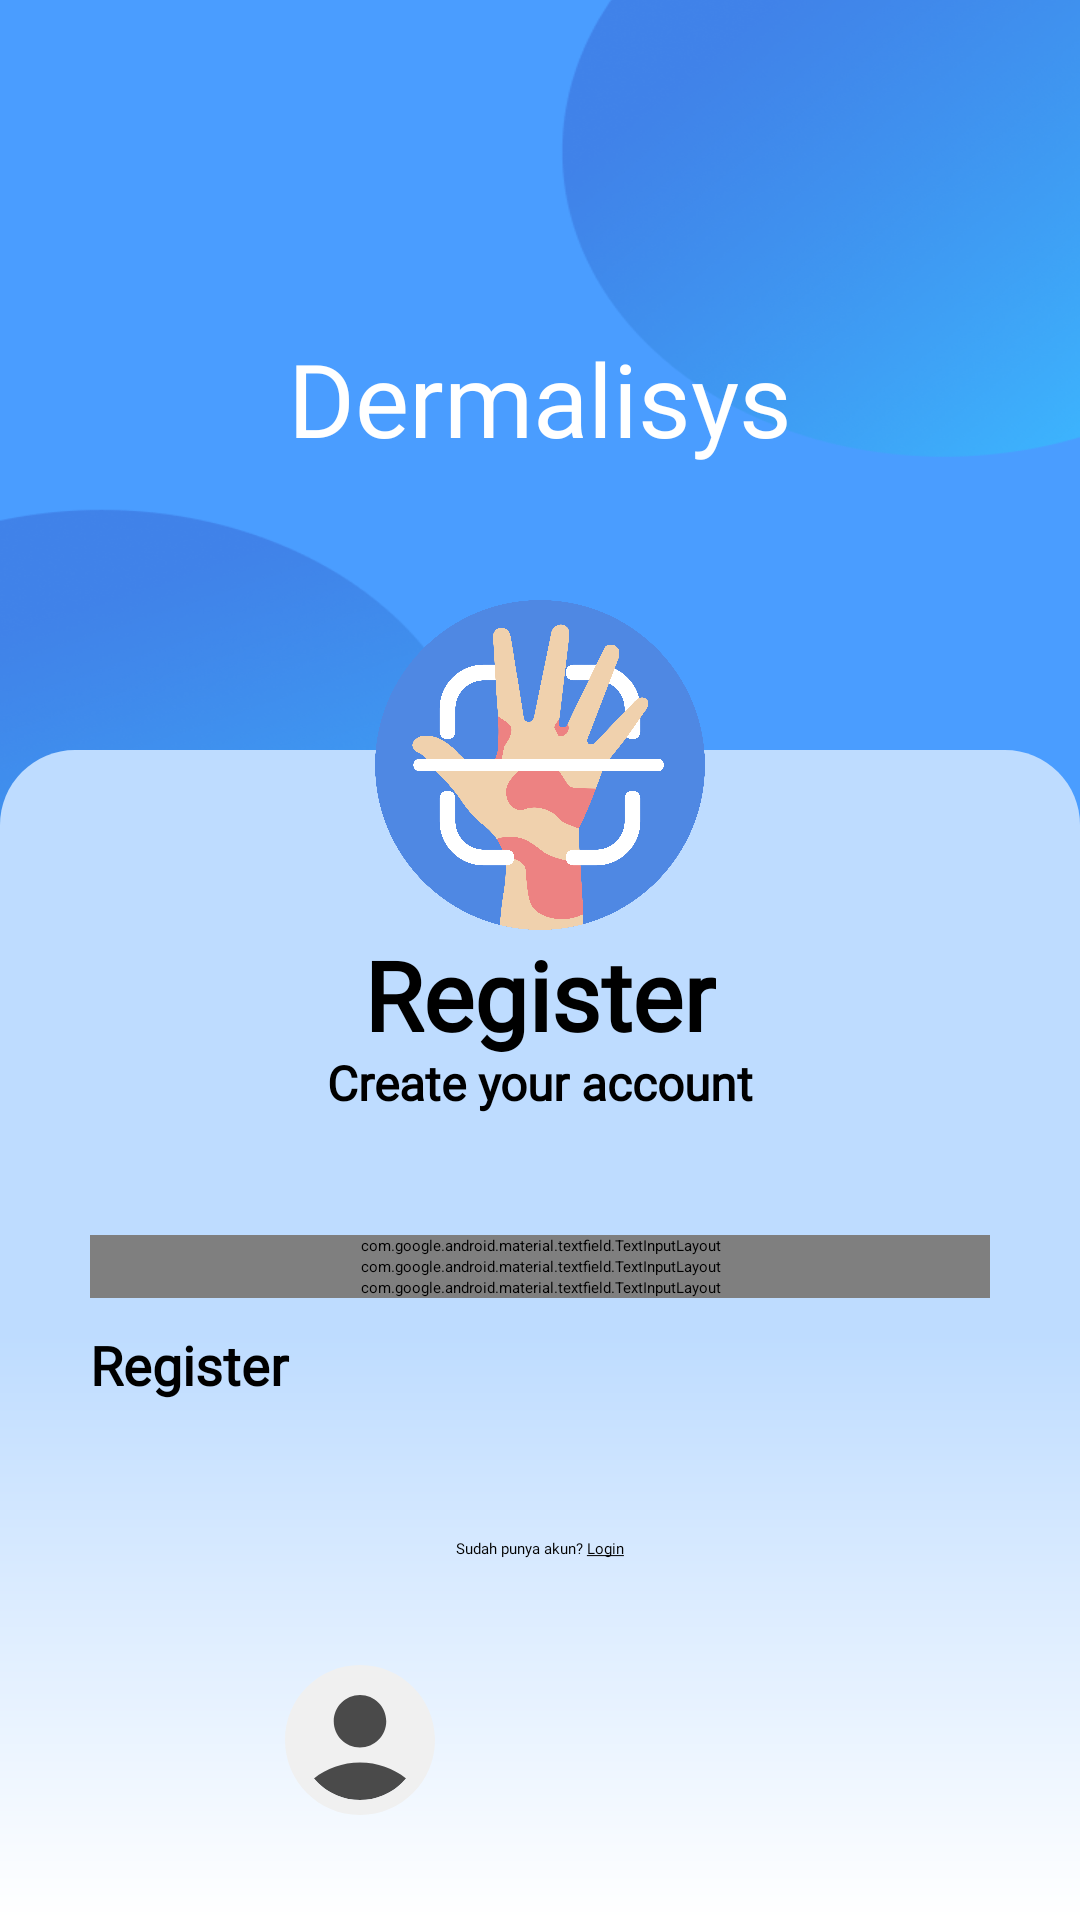

Locate icon controls on the screen. Image size 1080px x 1920px, boxes as bbox=[x1, y1, x2, y2].
account circle: bbox=[270, 1650, 450, 1815]
